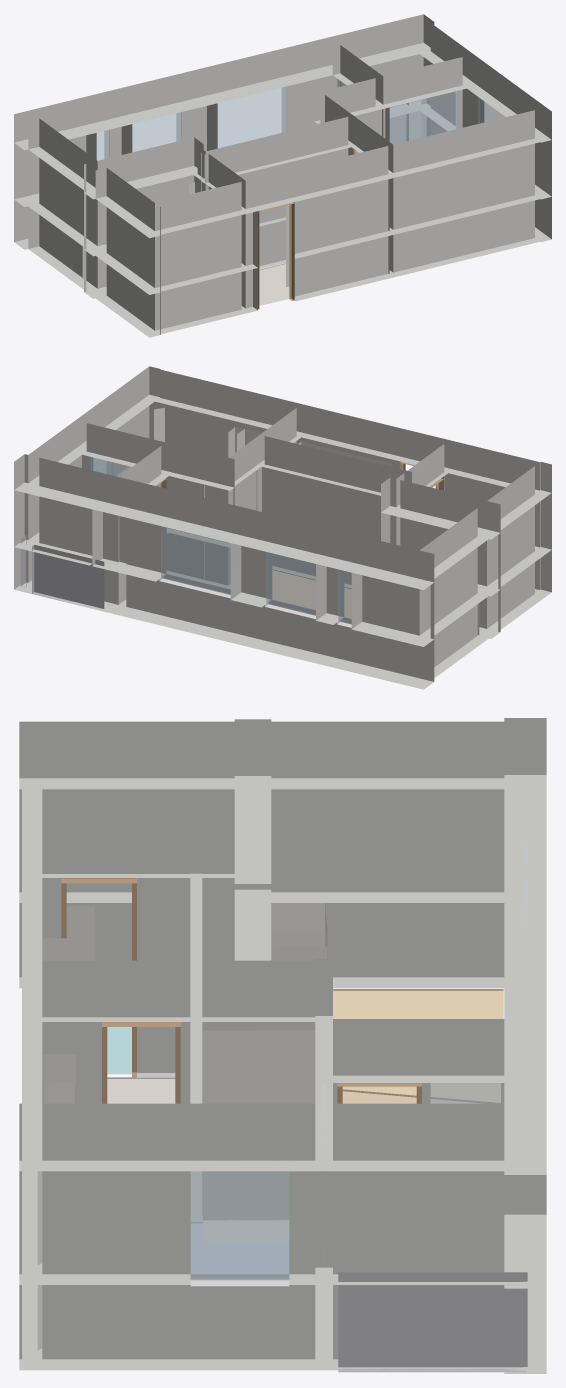
3 views of the same model, one above another, from view 1: azimuth 30°, elevation 25°; view 2: azimuth 150°, elevation 25°; view 3: azimuth 270°, elevation 25° (orthographic). The views are drawn at different scales.
Parts seen in each view (by area): view 1: walls, window_1, window_4, window_0, floor_5_Entry, door_7, railings, furniture_2_closet, window_9; view 2: walls, railings, window_1, window_0, floor_1_Living_Room, window_9, window_4, furniture_5_closet, sill_1; view 3: walls, railings, furniture_0_closet, window_2, floor_0_Kitchen, floor_3_Bed_Room, floor_5_Entry, furniture_6_appliance, window_5, door_6, door_8, floor_4_Bath (+7 smaller).
Part boxes in pixels (bbox=[...]): walls: bbox=[14, 14, 551, 337]; window_1: bbox=[216, 86, 287, 148]; window_4: bbox=[388, 88, 458, 144]; window_0: bbox=[132, 107, 181, 151]; floor_5_Entry: bbox=[259, 263, 289, 305]; door_7: bbox=[258, 202, 294, 309]; railings: bbox=[390, 99, 430, 144]; furniture_2_closet: bbox=[286, 179, 389, 296]; window_9: bbox=[91, 124, 109, 160]; walls: bbox=[14, 366, 551, 689]; railings: bbox=[20, 535, 104, 610]; window_1: bbox=[161, 521, 235, 594]; window_0: bbox=[266, 547, 321, 616]; floor_1_Living_Room: bbox=[272, 569, 351, 618]; window_9: bbox=[338, 564, 351, 624]; window_4: bbox=[91, 455, 159, 486]; furniture_5_closet: bbox=[154, 407, 167, 486]; sill_1: bbox=[159, 577, 230, 598]; walls: bbox=[19, 718, 546, 1373]; railings: bbox=[338, 1272, 527, 1372]; furniture_0_closet: bbox=[203, 1030, 315, 1244]; window_2: bbox=[190, 1165, 289, 1280]; floor_0_Kitchen: bbox=[333, 989, 503, 1102]; floor_3_Bed_Room: bbox=[191, 1222, 288, 1273]; floor_5_Entry: bbox=[107, 1077, 175, 1103]; furniture_6_appliance: bbox=[271, 903, 327, 958]; window_5: bbox=[430, 1083, 500, 1103]; door_6: bbox=[61, 878, 136, 1077]; door_8: bbox=[102, 1022, 180, 1103]; floor_4_Bath: bbox=[107, 1027, 131, 1074].
Bounding box in the file's own units: 9.05 × 2.72 × 5.04.
